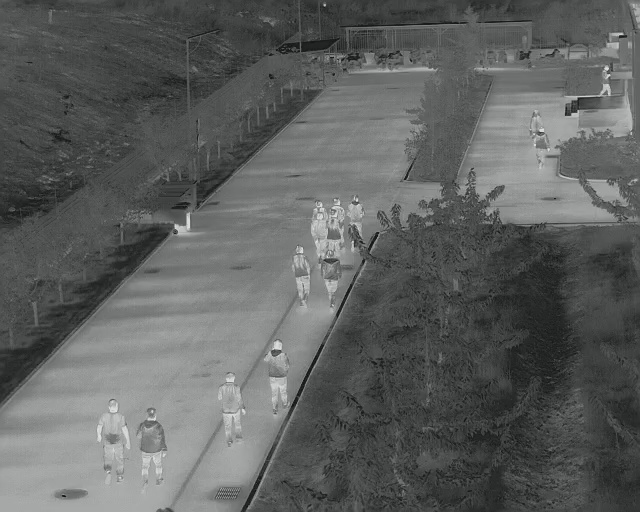person: (98, 398, 132, 485), (138, 408, 169, 489), (216, 368, 246, 447), (262, 339, 292, 415), (289, 245, 314, 310), (318, 249, 342, 310), (533, 128, 550, 170), (311, 201, 326, 248), (346, 194, 364, 231), (329, 206, 343, 246), (599, 62, 613, 96), (527, 109, 545, 130)
